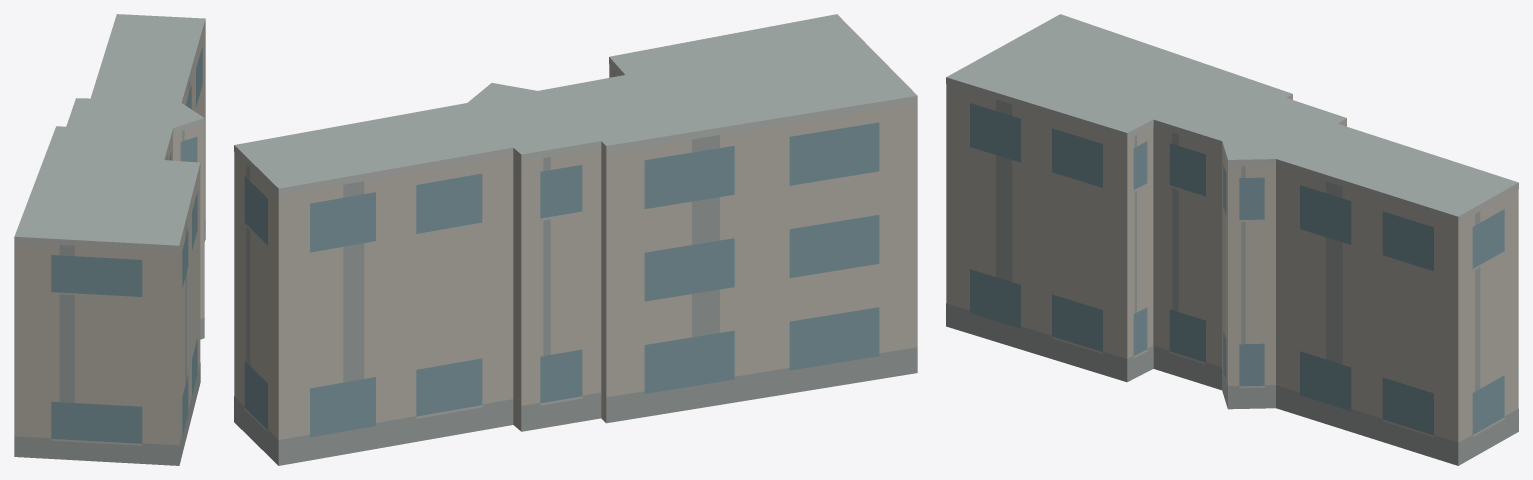
The model's file is survey-upis-33047431.glb.
The picture shows the model from 3 angles, left to right: view 1: azimuth 30°, elevation 25°; view 2: azimuth 150°, elevation 25°; view 3: azimuth 270°, elevation 25°; orthographic projection. The views are drawn at different scales.
Visible parts, largest first — view 1: survey-upis-33047431.tmp; view 2: survey-upis-33047431.tmp; view 3: survey-upis-33047431.tmp.
Boxes of the visible parts, x1,y1,x2,y2 form: survey-upis-33047431.tmp: (14,14,205,465); survey-upis-33047431.tmp: (234,14,917,465); survey-upis-33047431.tmp: (946,14,1518,465).
Size of the model in its own units: 15.97 by 9.15 by 19.07.
